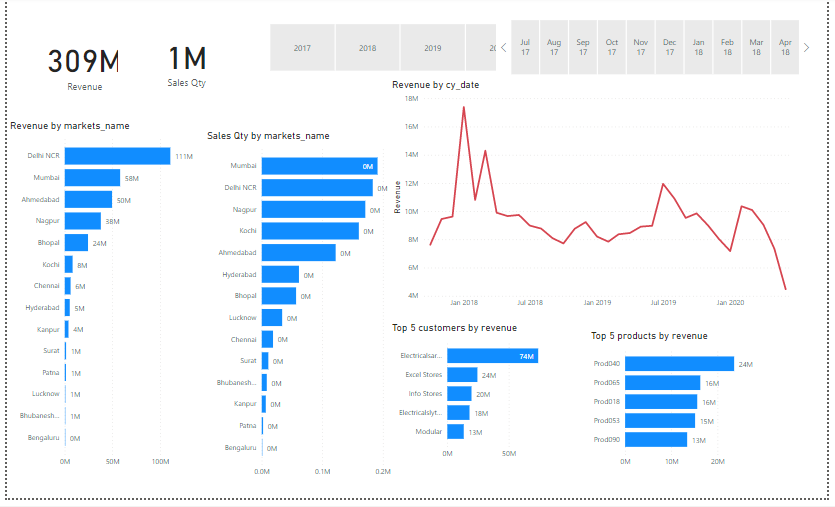

The dashboard page shown, as its layout file describes it:
{"tool":"powerbi","page":{"name":"Page 1","canvas":[1390,850],"ordinal":0},"visuals":[{"type":"card","fields":{"Values":["basemeasures.Revenue"]},"box":[0,0,264,225],"z":0},{"type":"card","fields":{"Values":["basemeasures.Sales Qty"]},"box":[187.9,0,233.5,213.4],"z":1000},{"type":"clusteredBarChart","fields":{"Y":["basemeasures.Revenue"],"Category":["markets.markets_name"]},"box":[0,209.1,340.2,597],"z":2000},{"type":"clusteredBarChart","fields":{"Y":["basemeasures.Sales Qty"],"Category":["markets.markets_name"]},"box":[334.8,225,340.2,597],"z":3000},{"type":"slicer","fields":{"Values":["date.year"]},"box":[421.4,38.3,490.7,93],"z":3001},{"type":"slicer","fields":{"Values":["date.cy_date"]},"box":[830,32.8,538.1,105.8],"z":3002},{"type":"clusteredBarChart","title":"Top 5 customers by revenue","fields":{"Y":["basemeasures.Revenue"],"Category":["customers.customer_name"]},"box":[647.6,550.9,299.2,240.8],"z":3003},{"type":"clusteredBarChart","title":"Top 5 products by revenue","fields":{"Y":["basemeasures.Revenue"],"Category":["products.product_code"]},"box":[985,565.5,299.2,240.8],"z":3004},{"type":"lineChart","fields":{"Y":["basemeasures.Revenue"],"Category":["date.cy_date"]},"box":[647.6,138.6,702.3,397.7],"z":3005}]}

Visuals, with their boxes in screenshot pixels (x1, y1, x2, y2), scaled from the page's 1390x850 canvas onto the 835x507 screenshot:
card - basemeasures.Revenue: region(0, 0, 159, 134)
card - basemeasures.Sales Qty: region(113, 0, 253, 127)
clusteredBarChart - basemeasures.Revenue x markets.markets_name: region(0, 125, 204, 481)
clusteredBarChart - basemeasures.Sales Qty x markets.markets_name: region(201, 134, 405, 490)
slicer - date.year: region(253, 23, 548, 78)
slicer - date.cy_date: region(499, 20, 822, 83)
"Top 5 customers by revenue" clusteredBarChart: region(389, 329, 569, 472)
"Top 5 products by revenue" clusteredBarChart: region(592, 337, 771, 481)
lineChart - basemeasures.Revenue x date.cy_date: region(389, 83, 811, 320)
